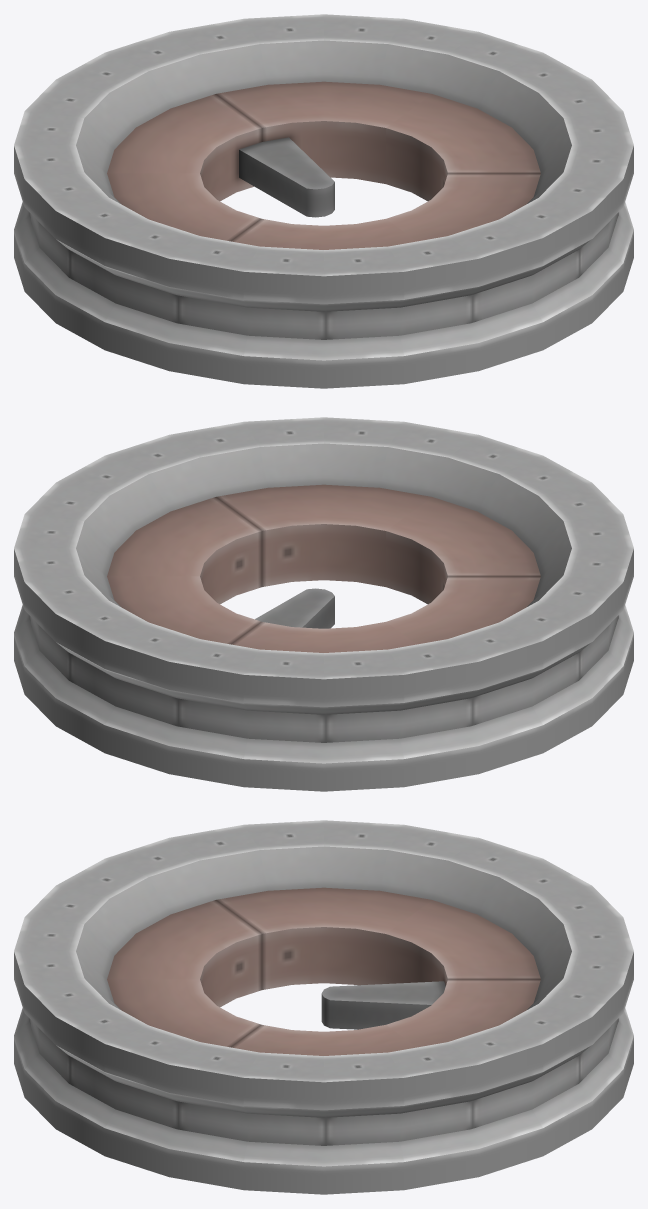
File: LLV_H_Decoupler_1.obj
3 renders of one model, top to bottom at view 1: azimuth 30°, elevation 25°; view 2: azimuth 150°, elevation 25°; view 3: azimuth 270°, elevation 25°, orthographic.
Parts seen in each view (by area): view 1: LLV_H_Decoupler_1; view 2: LLV_H_Decoupler_1; view 3: LLV_H_Decoupler_1.
Boxes of the visible parts, x1=… form: LLV_H_Decoupler_1: x1=14, y1=14, x2=633, y2=388; LLV_H_Decoupler_1: x1=14, y1=417, x2=633, y2=791; LLV_H_Decoupler_1: x1=14, y1=820, x2=633, y2=1194.
Size of the model in its own units: 0.625 by 0.125 by 0.625.
